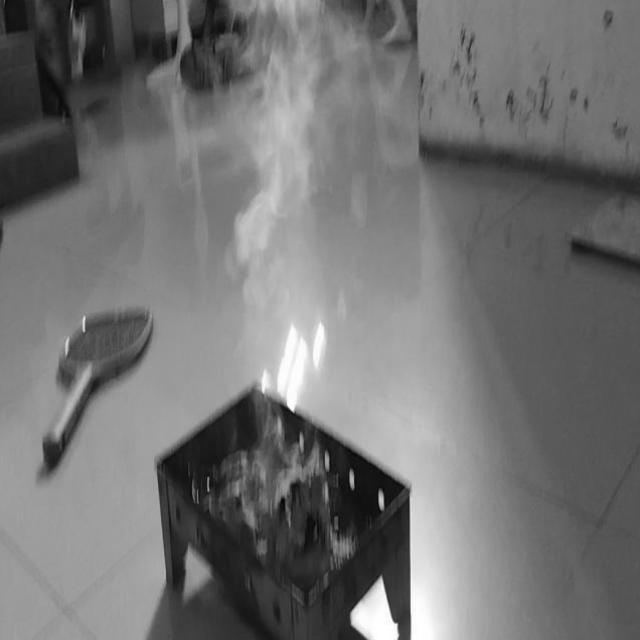fire: (225, 0, 330, 315)
smoke: (304, 440, 334, 506)
